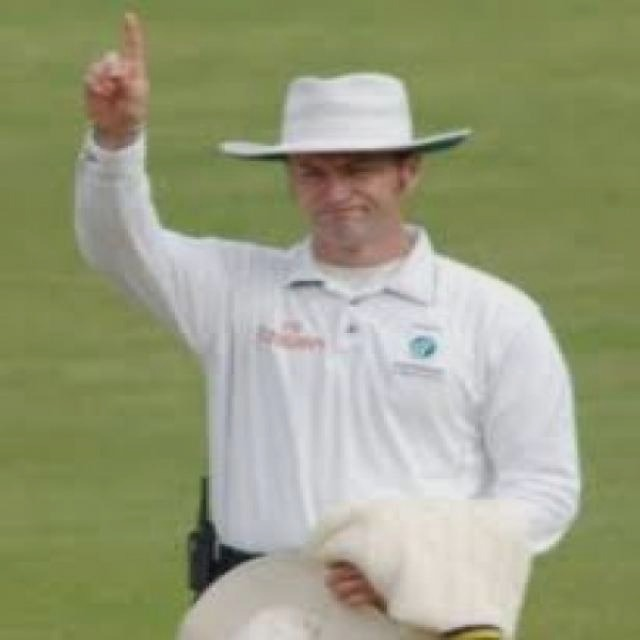Out: (65, 3, 590, 640)
